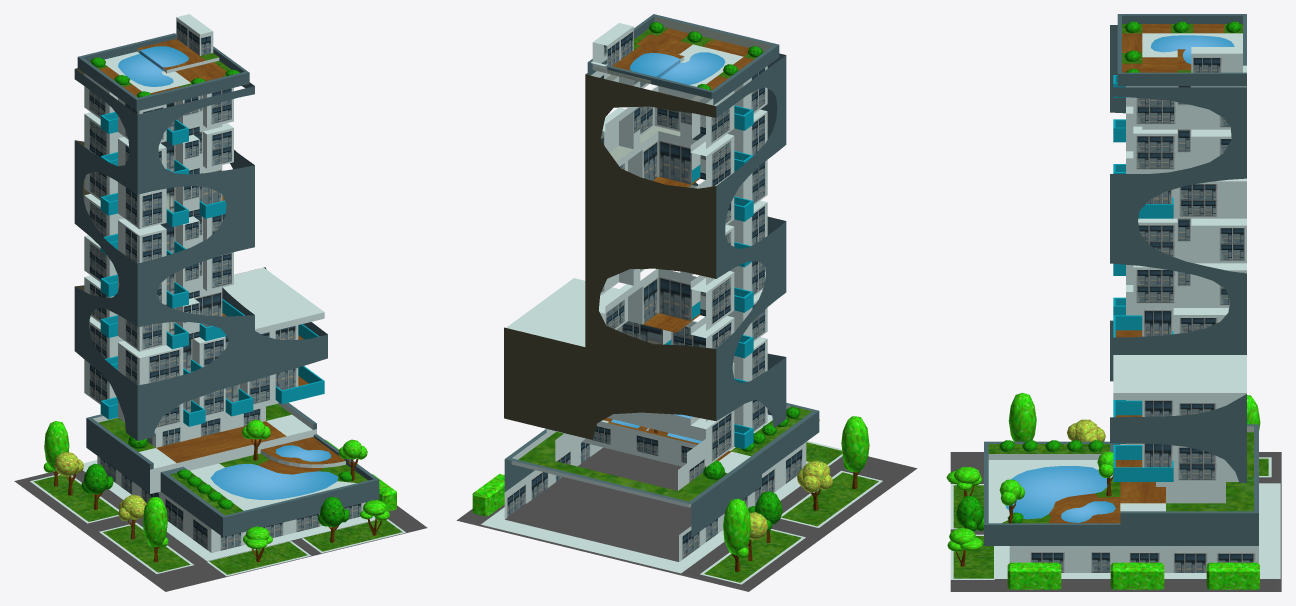
Rendered from Residential_lvl3.fbx.
3 renders of one model, left to right at view 1: azimuth 30°, elevation 25°; view 2: azimuth 150°, elevation 25°; view 3: azimuth 270°, elevation 25°, orthographic. The views are drawn at different scales.
Visible parts, largest first — view 1: residential level 3; view 2: residential level 3; view 3: residential level 3.
Part boxes in pixels (box(x1,y1,x2,y2)): residential level 3: box(14, 14, 427, 591); residential level 3: box(456, 14, 917, 591); residential level 3: box(946, 14, 1281, 591).
Bounding box in the file's own units: 100 × 161 × 101.
